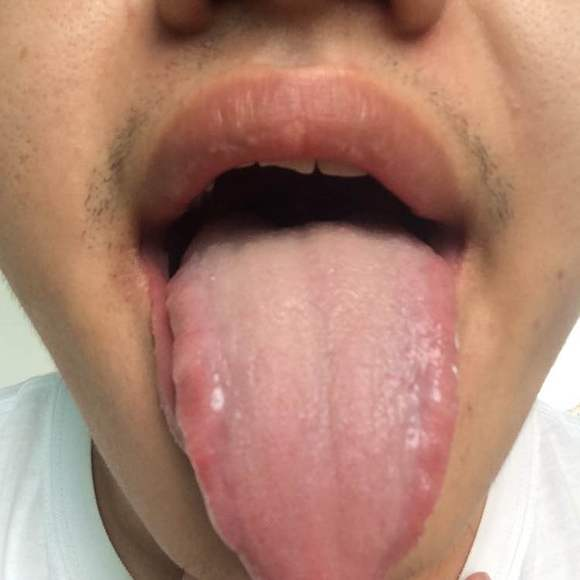baitaishe: (165, 206, 457, 580)
chihenshe: (166, 287, 241, 554)
